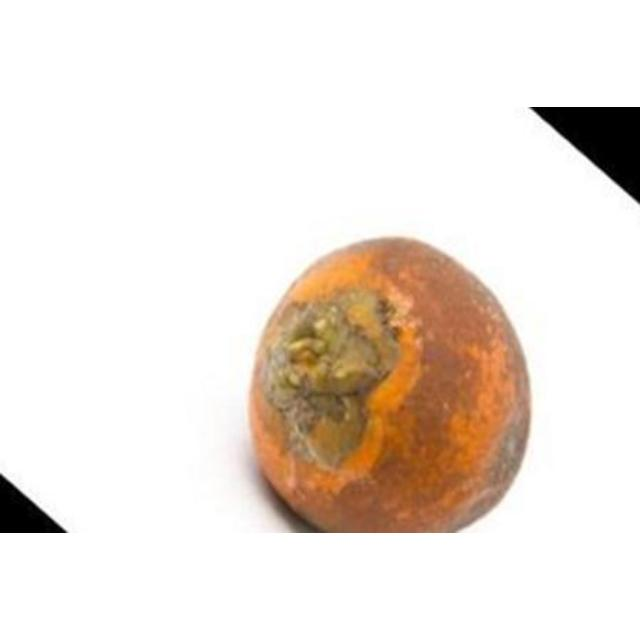good: (247, 239, 532, 532)
